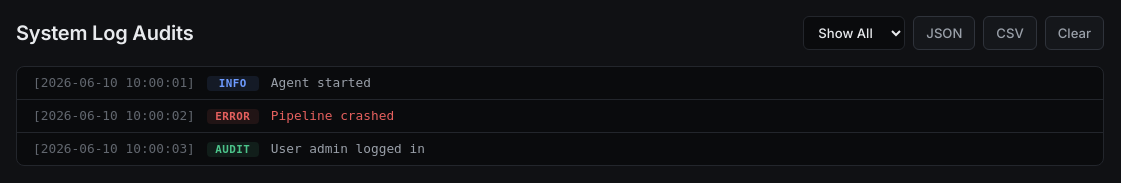
Test: Logs › filters log entries by level
Expected: the text "Agent started" is shown, [271,75,371,90]
Select "Errors" in the dropdown at (854, 33), box [803,16,905,50]
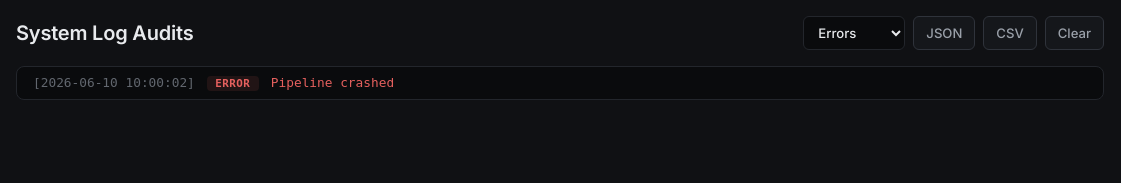
Result: the text "Pipeline crashed" is shown at [271,75,394,90]
Result: the text "Agent started" is gone
